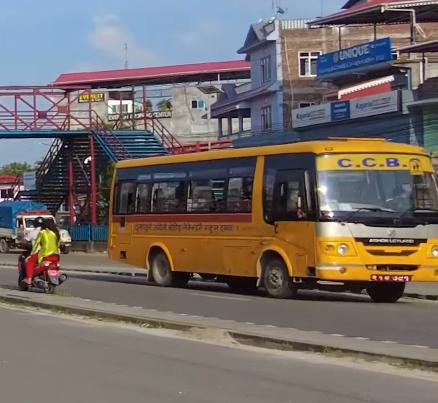school_bus: (105, 133, 438, 302)
scooter: (16, 236, 68, 295)
transport_vehicle: (0, 199, 73, 256)
